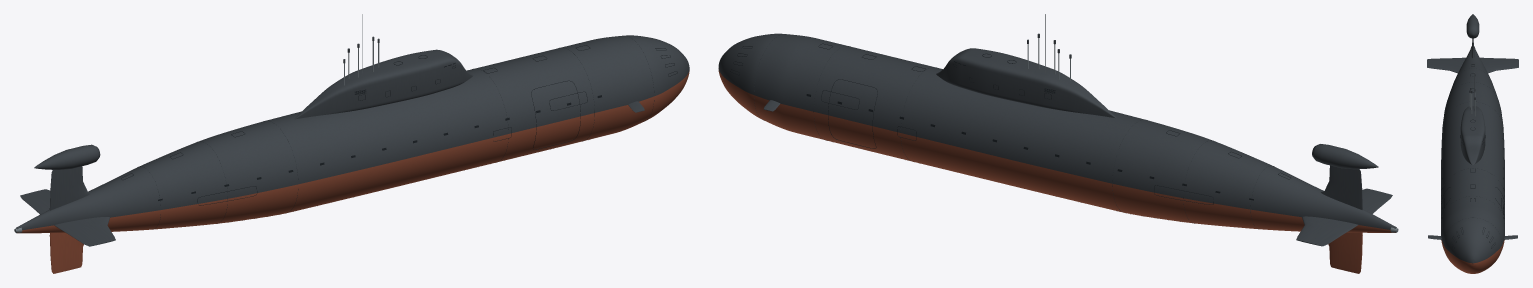
The model's file is RU_SSN_Akula_LOD0.fbx.
3 renders of one model, left to right at view 1: azimuth 30°, elevation 25°; view 2: azimuth 150°, elevation 25°; view 3: azimuth 270°, elevation 25°, orthographic. The views are drawn at different scales.
Parts seen in each view (by area): view 1: RU_SSN_Akula_HULL_LOD0; view 2: RU_SSN_Akula_HULL_LOD0; view 3: RU_SSN_Akula_HULL_LOD0.
Part boxes in pixels (left/top/right/bottom): RU_SSN_Akula_HULL_LOD0: left=14, top=14, right=689, bottom=273; RU_SSN_Akula_HULL_LOD0: left=718, top=14, right=1398, bottom=273; RU_SSN_Akula_HULL_LOD0: left=1427, top=14, right=1518, bottom=273.
Size of what is drawn, in the model's own units: 109 by 19.6 by 28.44.
